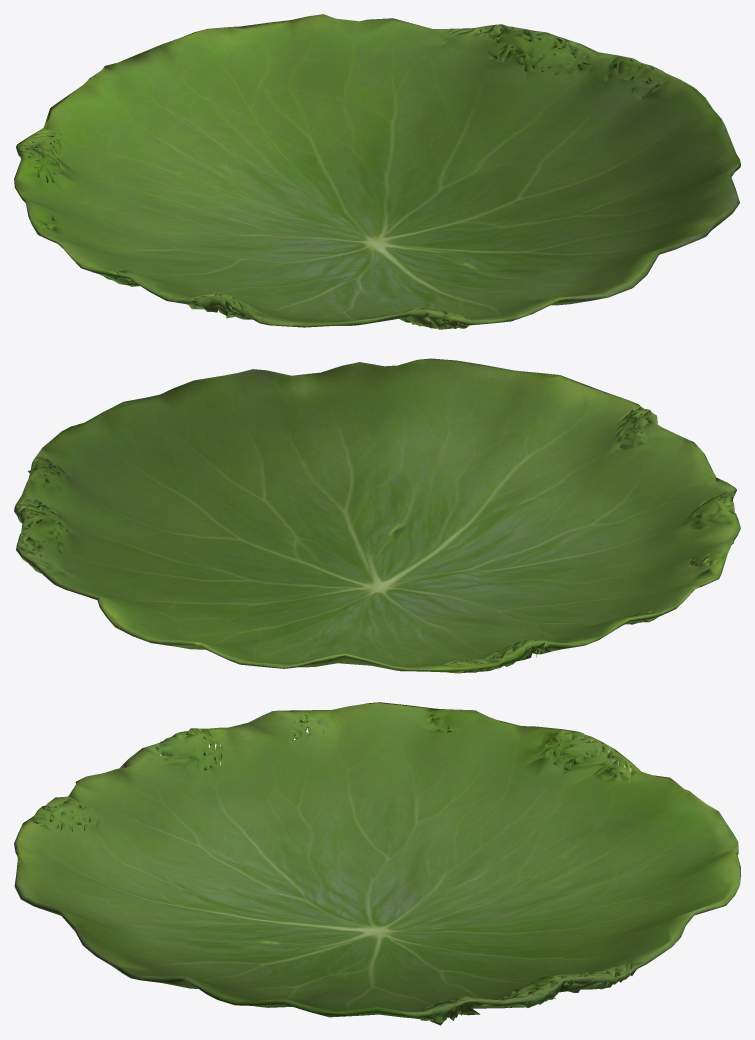
Rendered from leaf_0508164309_texture.fbx.
The picture shows the model from 3 angles, top to bottom: view 1: azimuth 30°, elevation 25°; view 2: azimuth 150°, elevation 25°; view 3: azimuth 270°, elevation 25°; orthographic projection.
Visible parts, largest first — view 1: Mesh1; view 2: Mesh1; view 3: Mesh1.
Part boxes in pixels (<box>): Mesh1: <box>14,14,740,329</box>; Mesh1: <box>14,358,740,673</box>; Mesh1: <box>14,702,740,1025</box>.
Bounding box in the file's own units: 200 × 25.81 × 200.
1 material, 1 textured.
